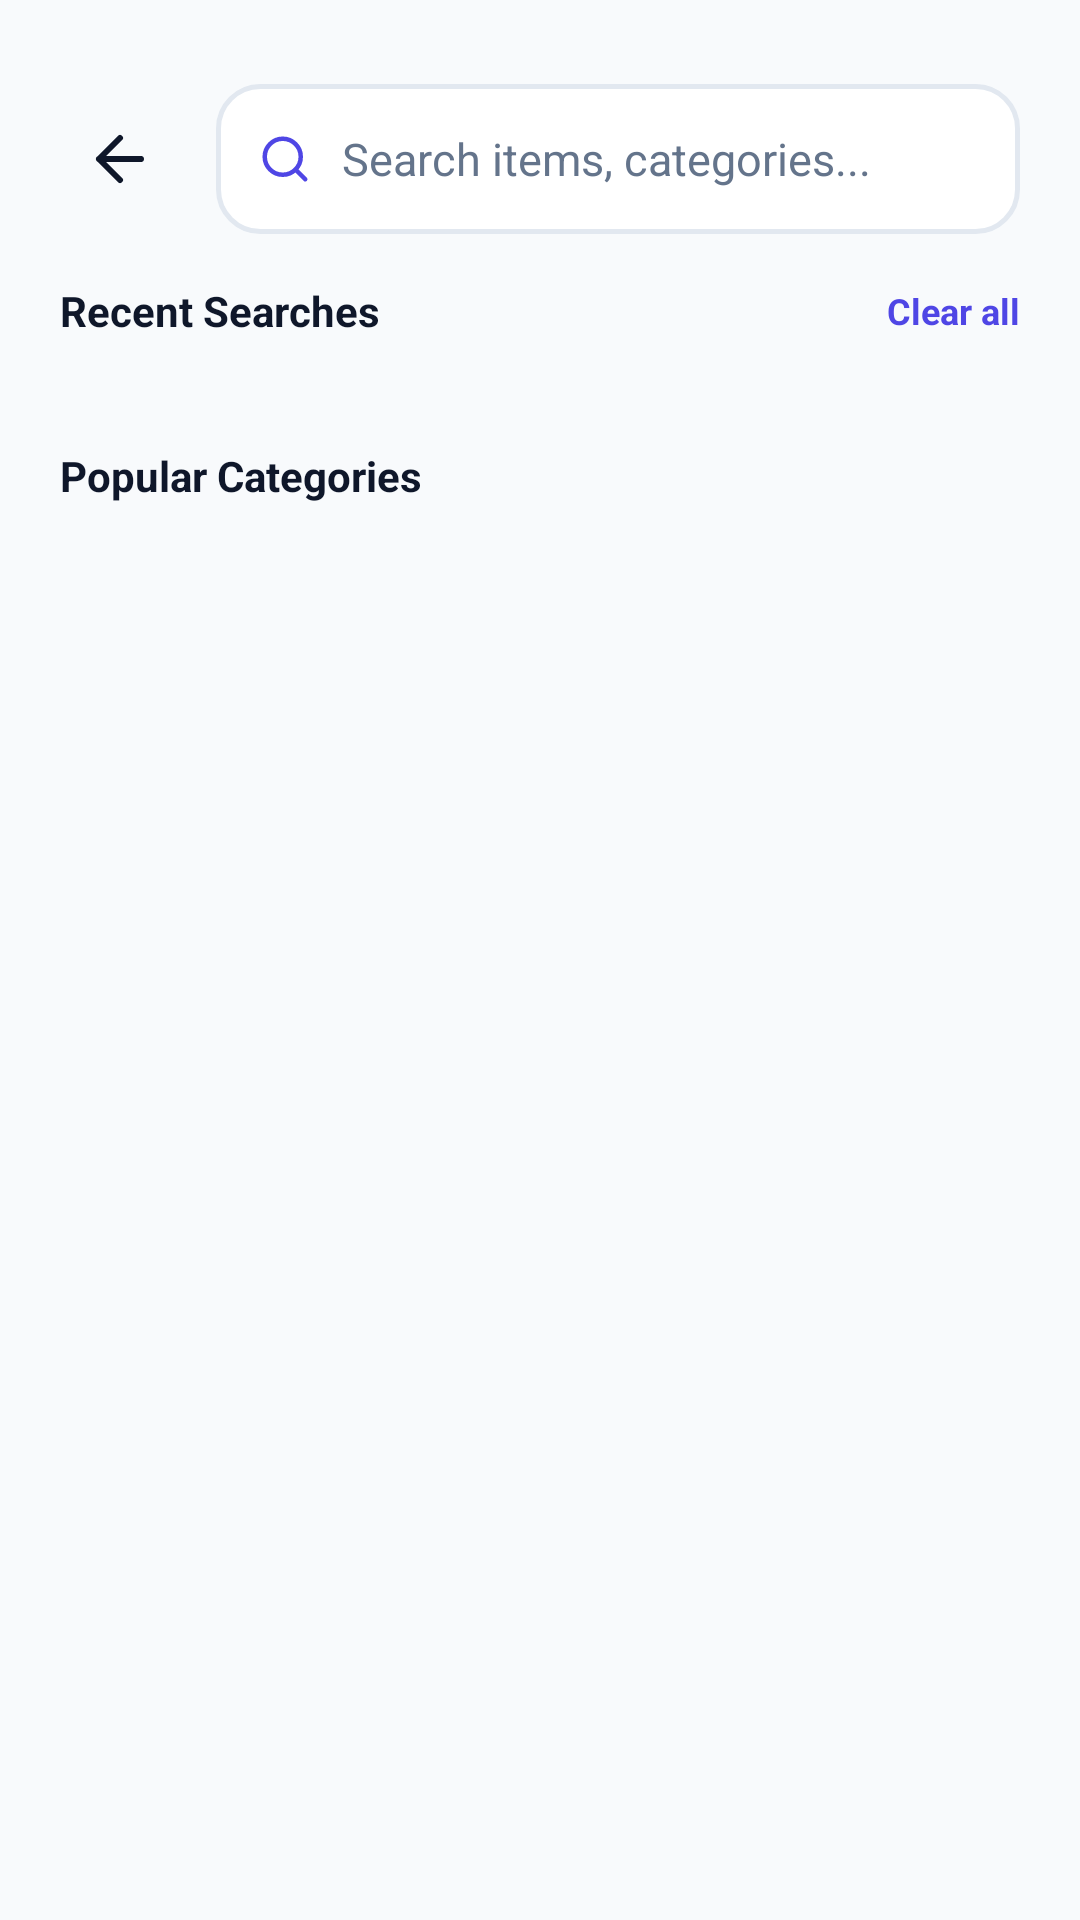

Named icons in this screenshot (1080 × 1920) and their bounding boxes, (left=x1, top=y1, right=x2, bottom=y2):
back: (left=96, top=135, right=144, bottom=183)
